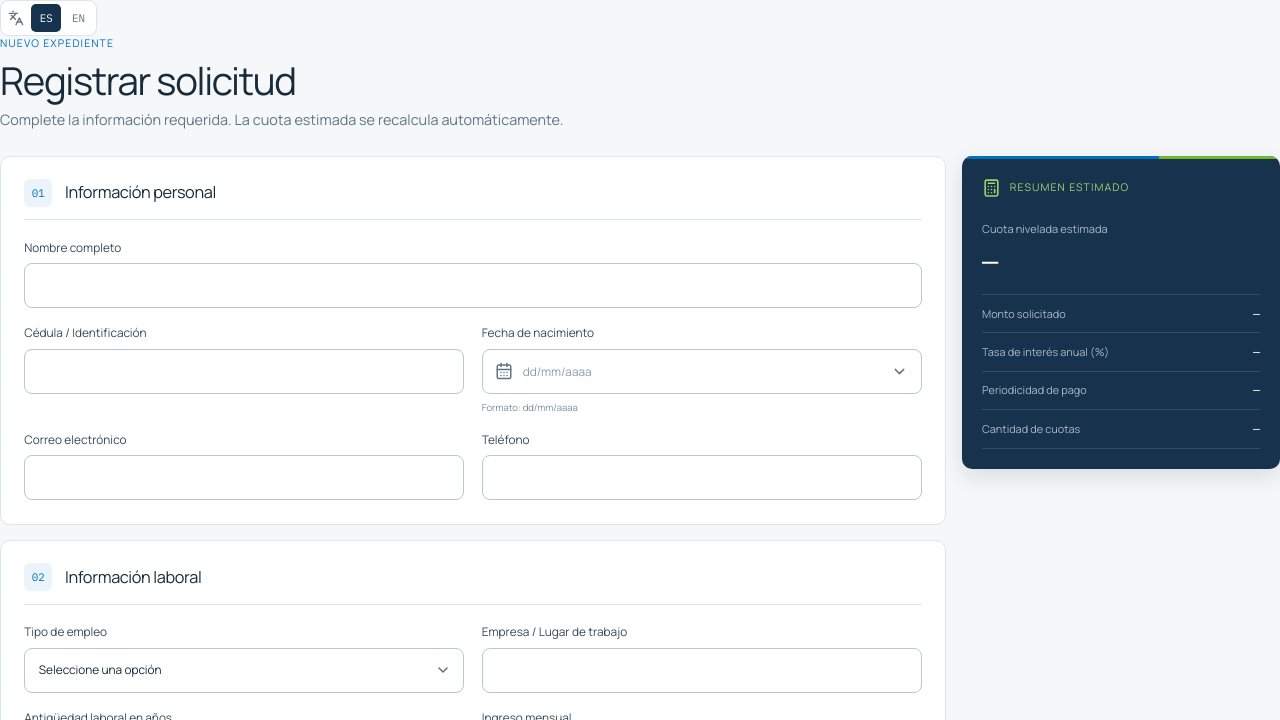
Scenario: new application date picker › allows the date exactly 80 years ago, including the lower boundary
Click the button named "Abrir calendario": x=899, y=371 [880,352,919,391]
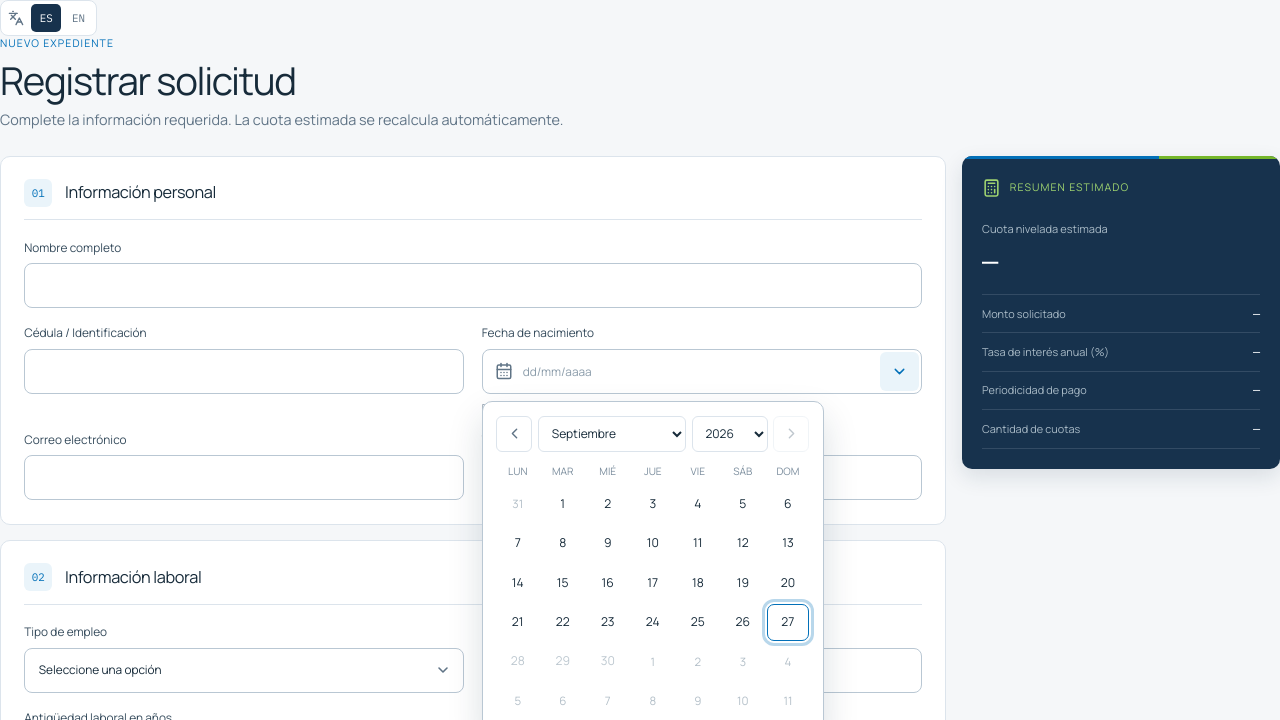
Select "1946" in the dropdown named "Año": x=730, y=434 [692,416,768,452]
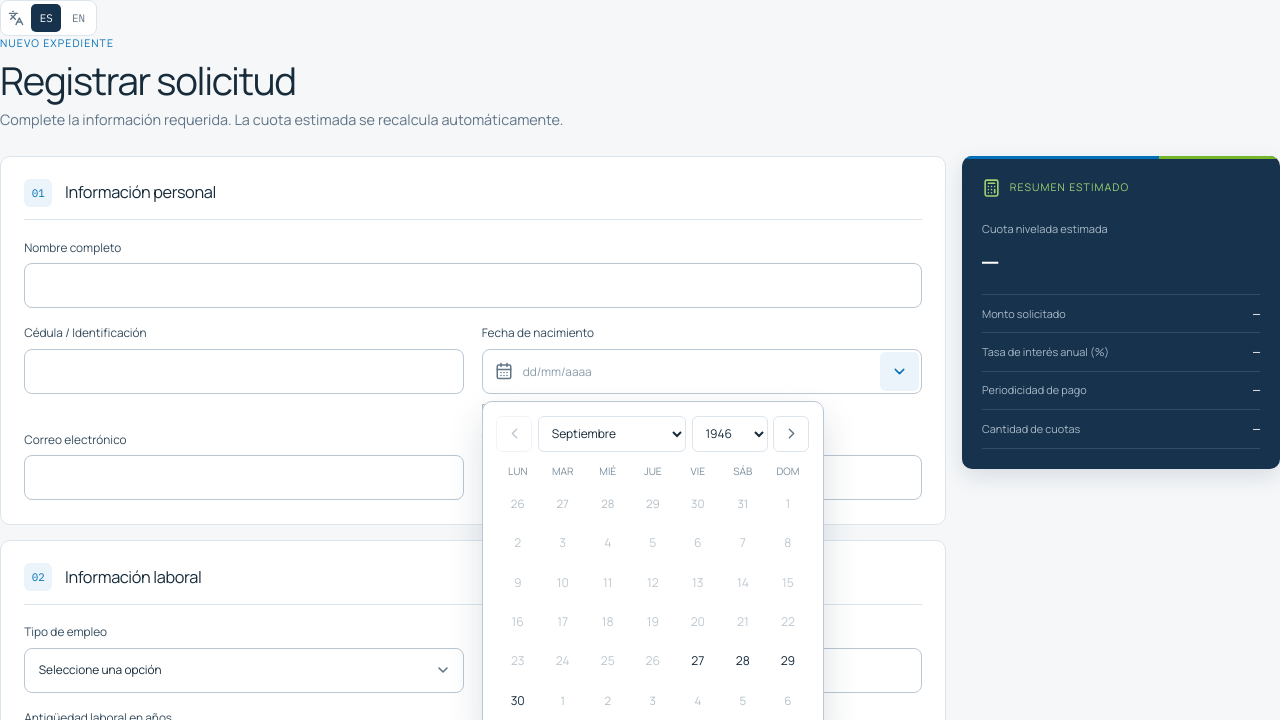
Expected: the button named "27 de septiembre de 1946" is enabled
Click the button named "27 de septiembre de 1946": x=698, y=661 [676,643,719,680]
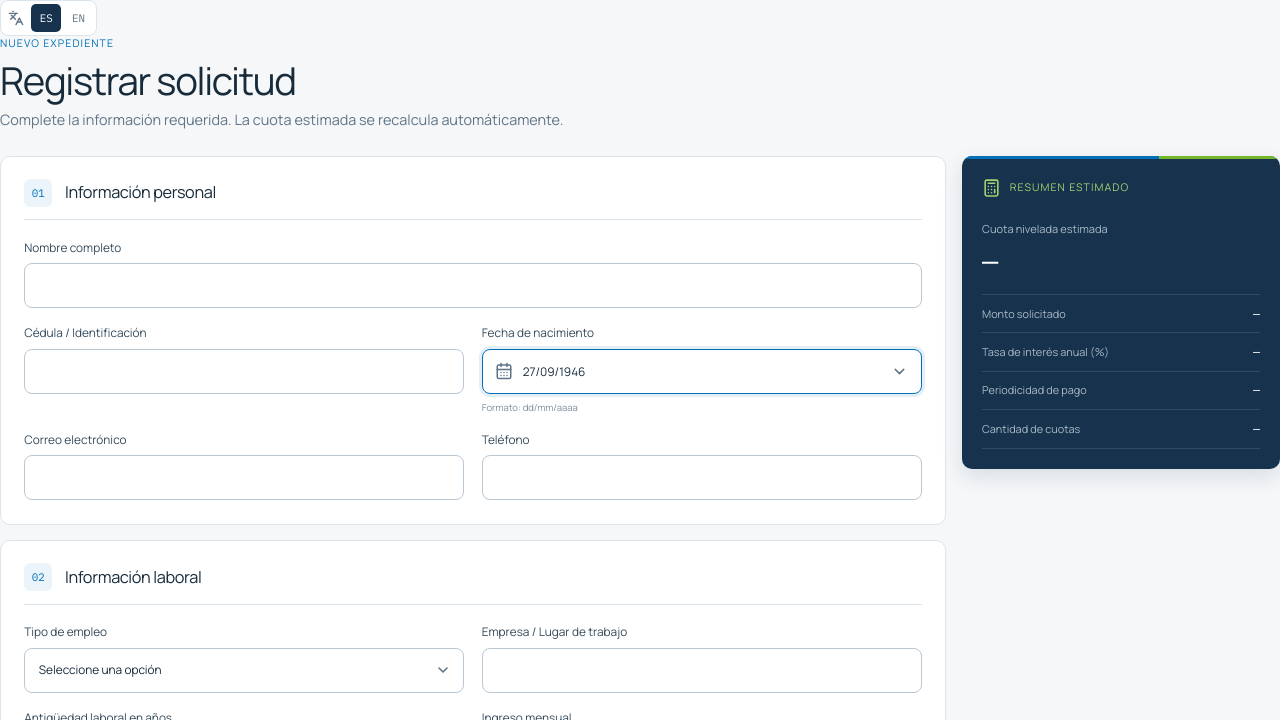
Expected: the element named "birthDate" holds "1946-09-27", [482,324,922,415]
Expected: the field labelled "Fecha de nacimiento" holds "27/09/1946", [482,349,922,394]
